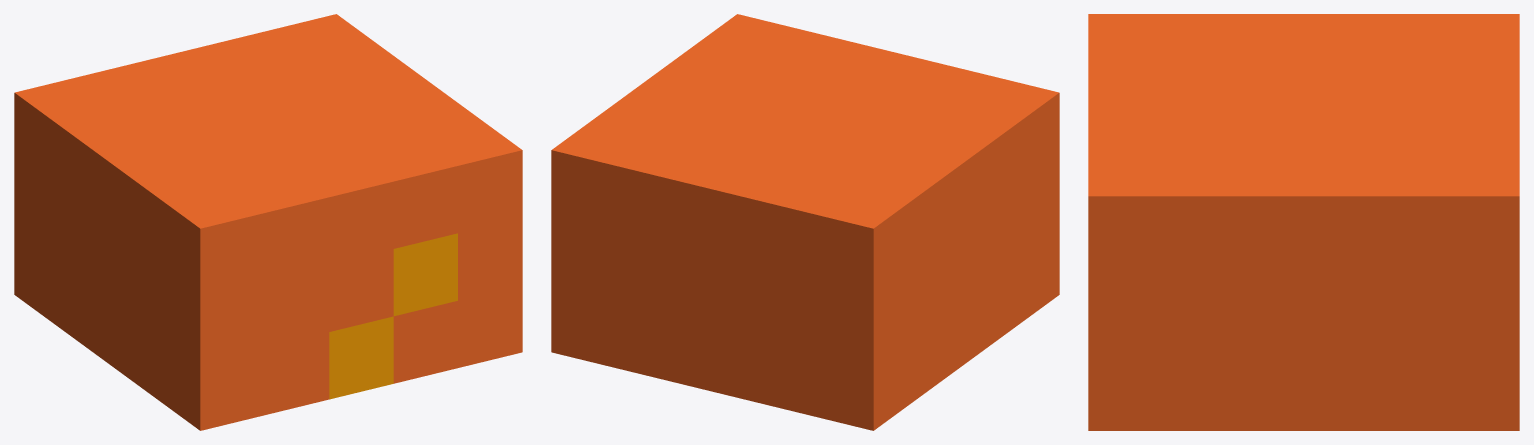
The model's file is blob_d_walk_2.obj.
3 renders of one model, left to right at view 1: azimuth 30°, elevation 25°; view 2: azimuth 150°, elevation 25°; view 3: azimuth 270°, elevation 25°, orthographic. The views are drawn at different scales.
Size of the model in its own units: 0.5 by 0.3 by 0.5.
Materials: 1 (1 with a texture image).
